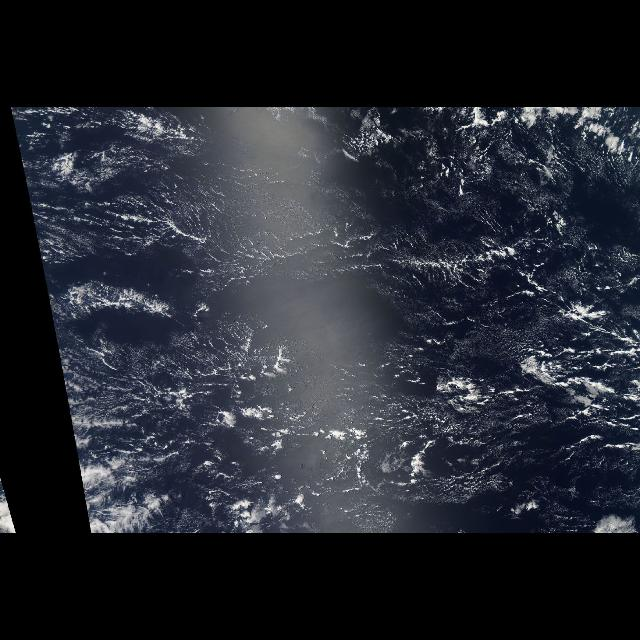Sugar: (15, 121, 640, 508)
